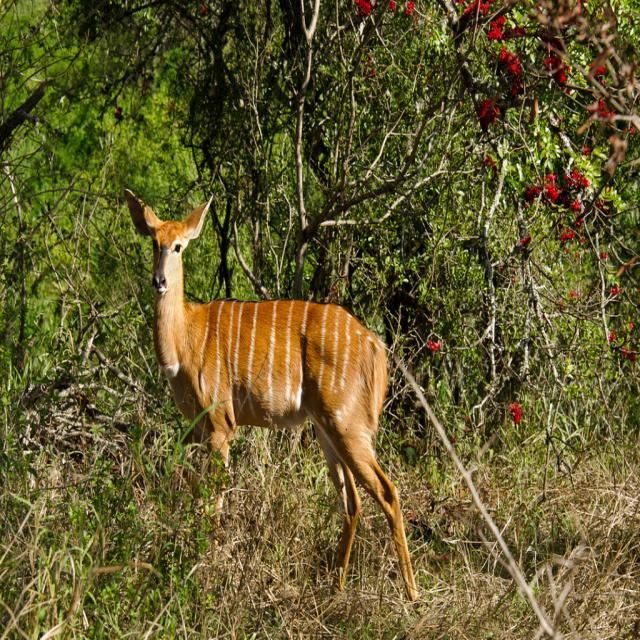Deer: (124, 188, 418, 600)
